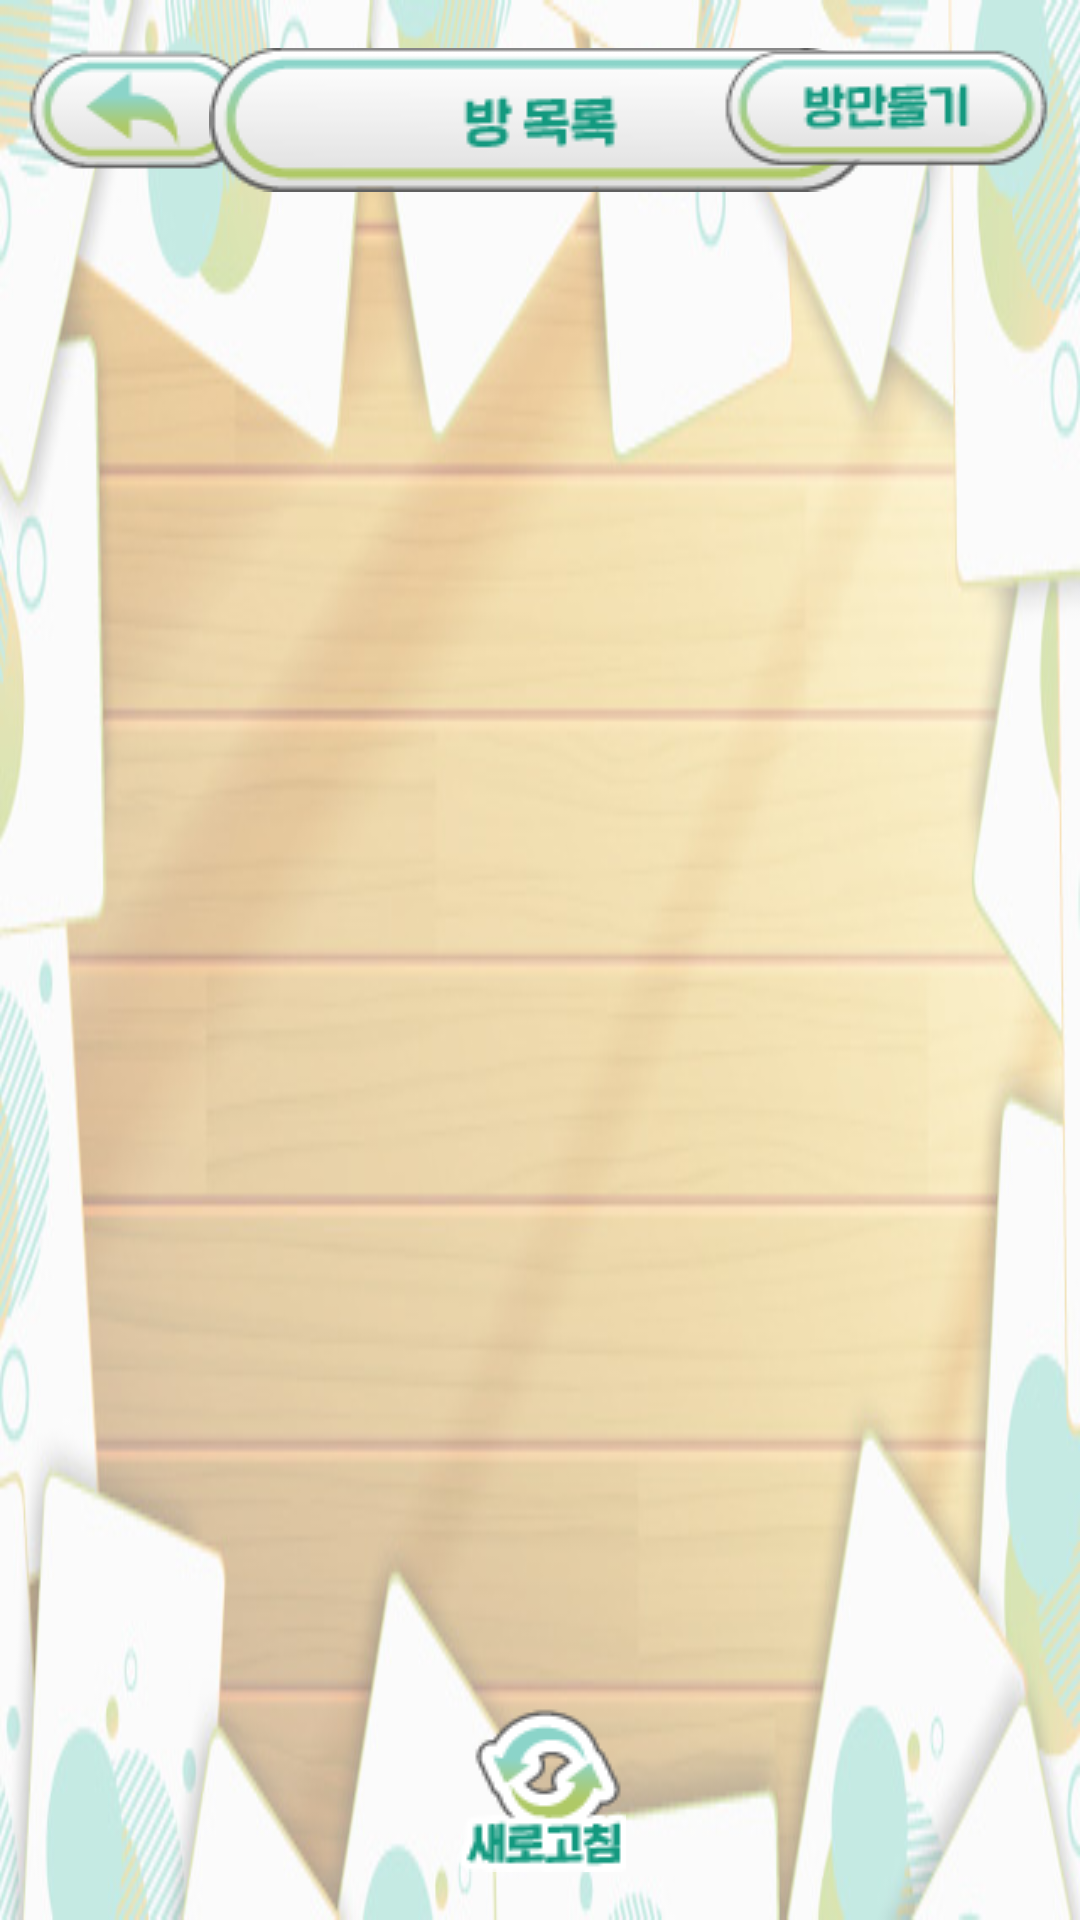

Named icons in this screenshot (1080x1920) and their centers, point (x, y):
imb back: point (141, 111)
